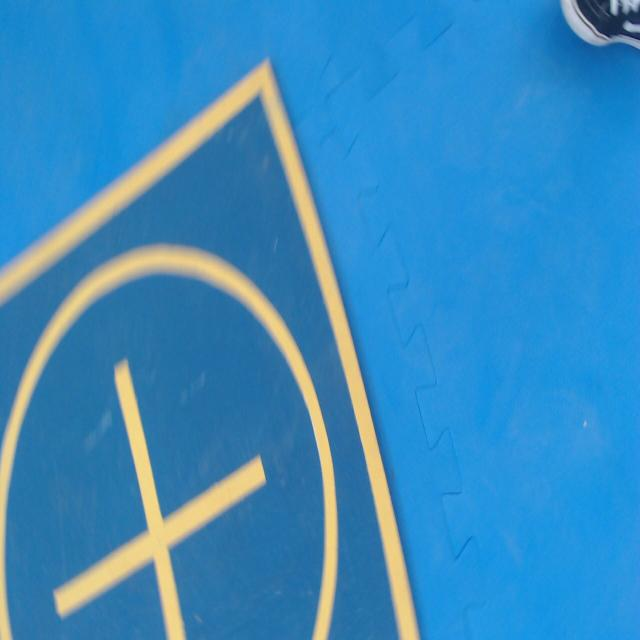base_pouso: (0, 54, 422, 639)
